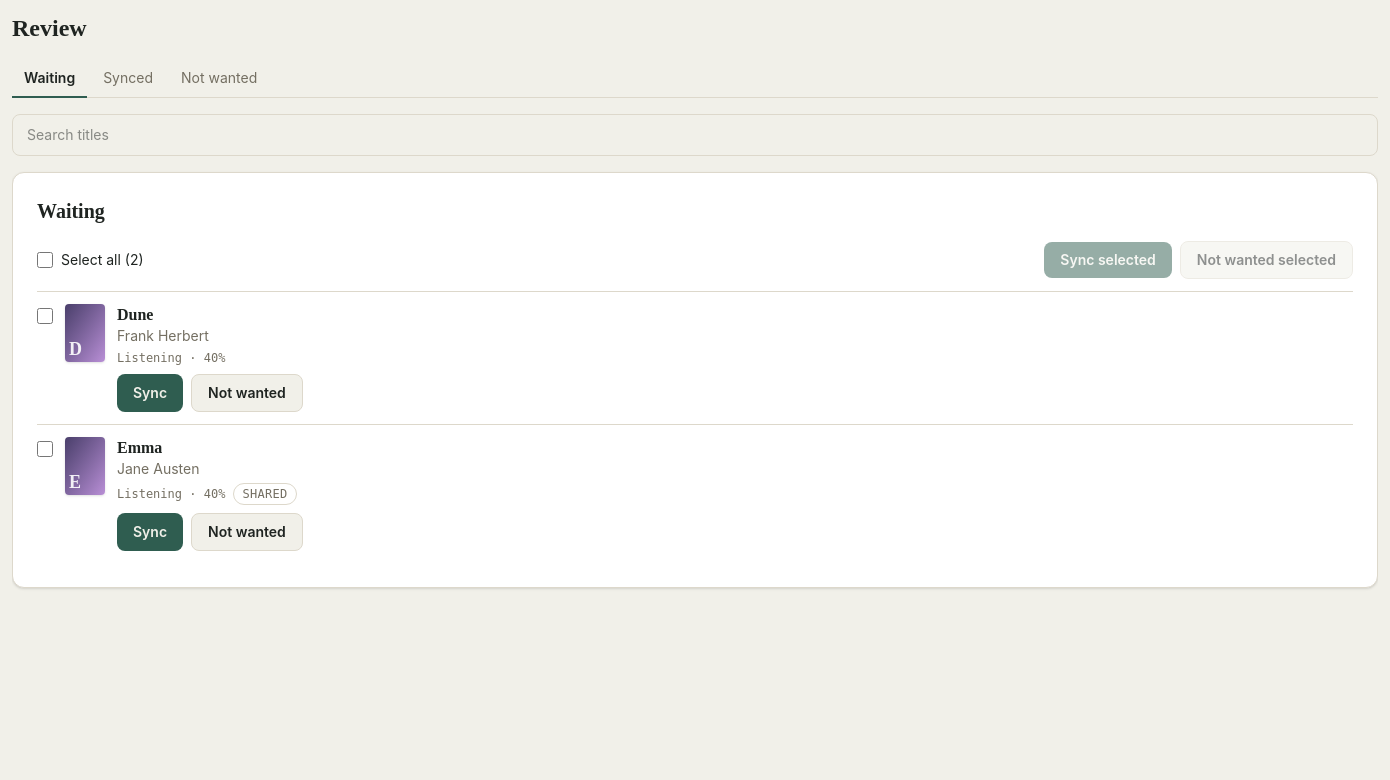
Test: ReviewPage › switches the list with the filter tabs
Expected: the text "Dune" is shown, [117,306,154,323]
Click the tab "Not wanted" at point(219, 79), box [169,60,269,98]
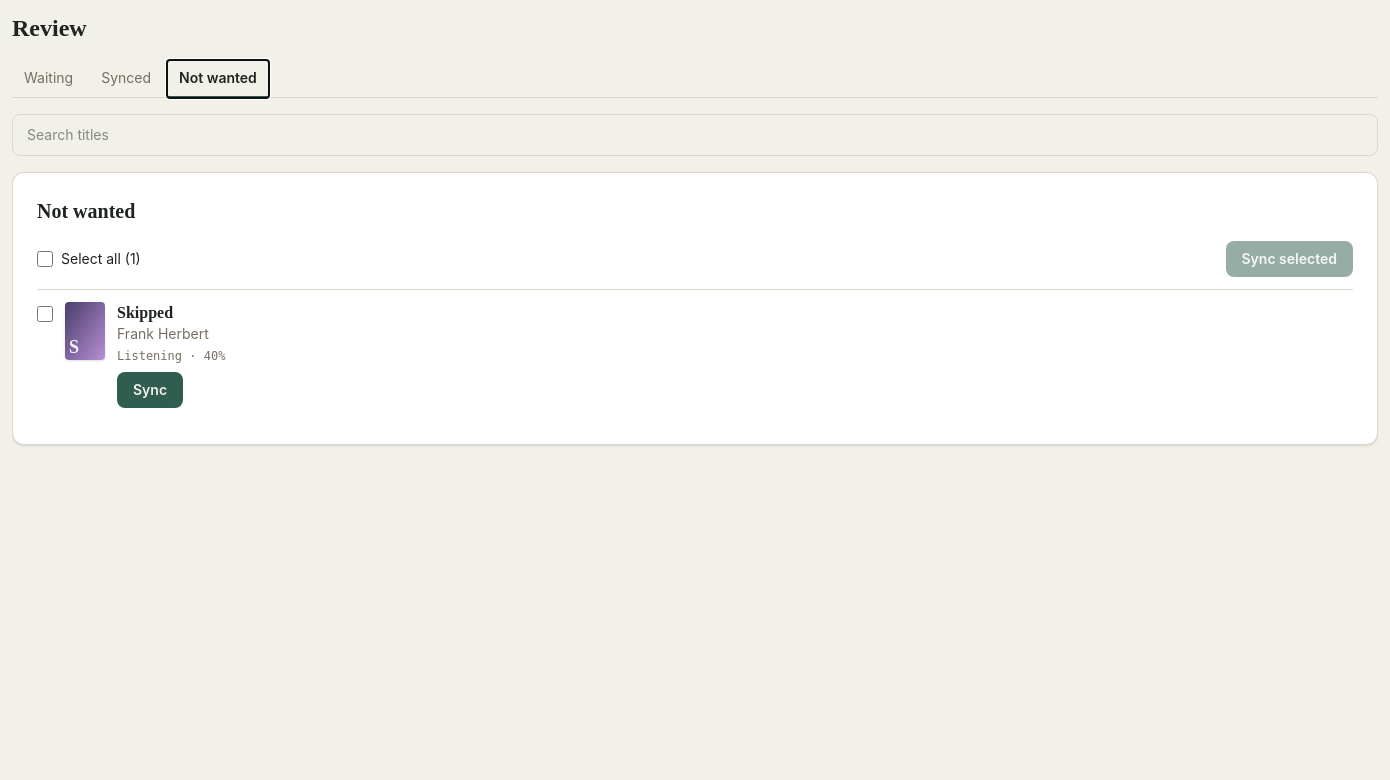
Now the text "Skipped" is shown, box [117,304,173,321]
Now the text "Dune" is gone
